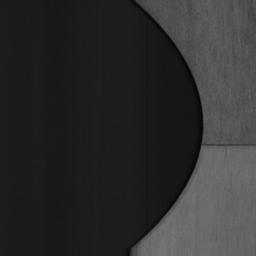Crescent gap: (133, 3, 204, 248)
